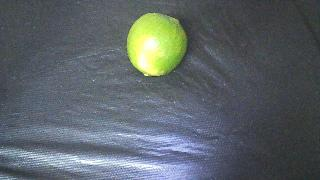LOCAL: (127, 13, 187, 76)
